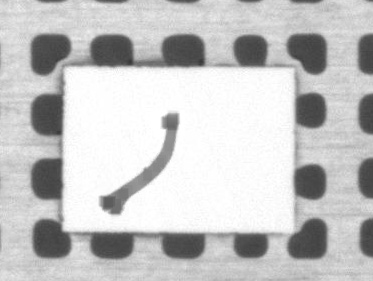DIE_INK: (100, 110, 183, 218)
